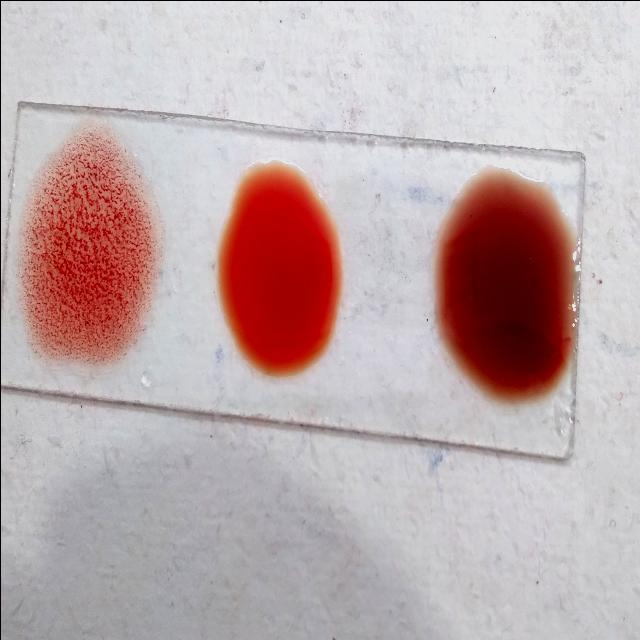D: (20, 136, 158, 360)
